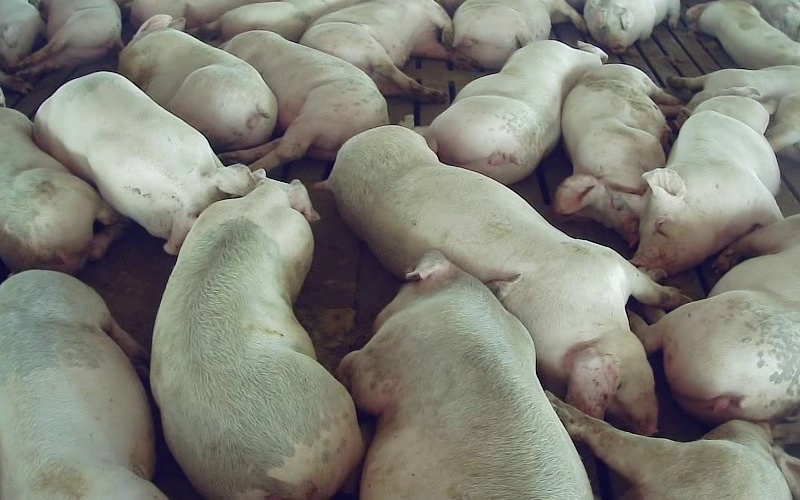pig: (327, 127, 685, 433), (152, 172, 363, 499), (337, 252, 592, 499), (34, 72, 263, 253), (629, 215, 799, 423), (548, 393, 799, 499), (632, 96, 781, 274), (425, 40, 606, 184), (221, 30, 388, 169), (554, 64, 678, 245), (118, 14, 276, 151), (300, 0, 451, 101), (453, 0, 585, 70), (669, 66, 799, 127), (17, 0, 122, 75), (686, 0, 799, 68), (584, 0, 679, 53)
